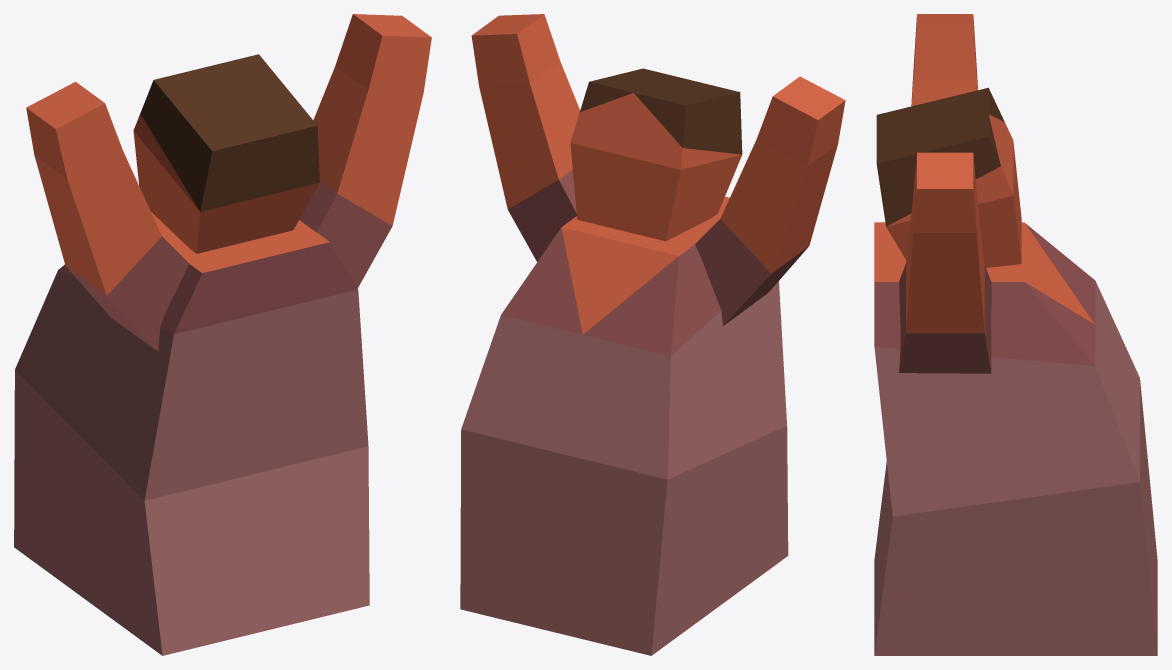
The model's file is spectator_07.fbx.
3 renders of one model, left to right at view 1: azimuth 30°, elevation 25°; view 2: azimuth 150°, elevation 25°; view 3: azimuth 270°, elevation 25°, orthographic. The views are drawn at different scales.
Parts seen in each view (by area): view 1: spectator_07; view 2: spectator_07; view 3: spectator_07.
Boxes of the visible parts, bbox=[...] form: spectator_07: bbox=[14, 14, 431, 655]; spectator_07: bbox=[460, 14, 845, 655]; spectator_07: bbox=[874, 14, 1157, 655].
Size of the model in its own units: 184 by 254 by 125.
